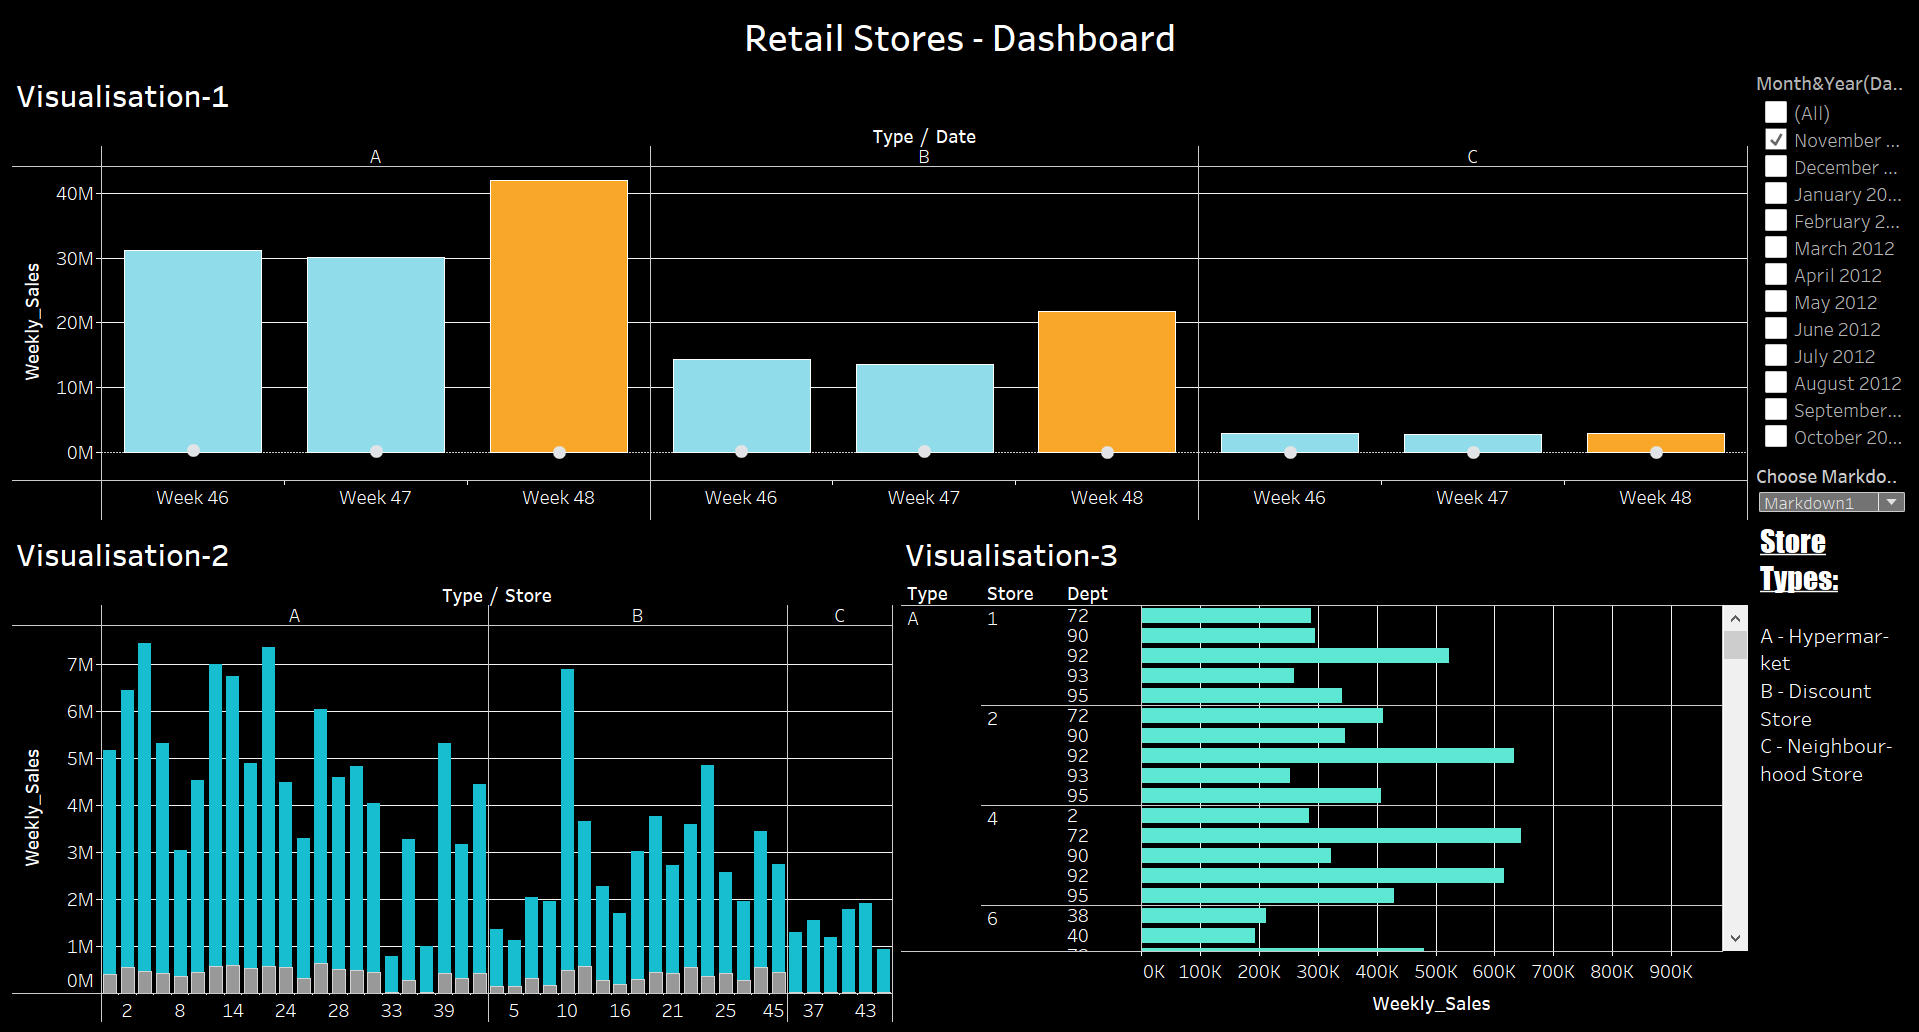

The dashboard page shown, as its layout file describes it:
{"tool":"tableau","page":{"name":"Retail Dashboard","canvas":[1000,1000],"units":"permille","ordinal":0},"visuals":[{"type":"worksheet","box":[0,0,1000,1000]},{"type":"worksheet","param":"vert","box":[5,9.8,990,980.4]},{"type":"worksheet","box":[5,9.8,990,70.9]},{"type":"worksheet","param":"vert","box":[5,80.7,990,909.5]},{"type":"worksheet","param":"vert","box":[5,80.7,990,909.5]},{"type":"worksheet","param":"horz","box":[5,80.7,990,909.5]},{"type":"worksheet","box":[5,80.7,890.3,909.5]},{"type":"worksheet","title":"Visualisation-1","mark":"Bar","rows":["Weekly_Sales","Calculation_1053560841494437891"],"cols":["Type","Date"],"box":[5,80.7,890.3,434]},{"type":"worksheet","param":"vert","box":[895.3,80.7,99.8,909.5]},{"type":"worksheet","title":"Visualisation-1","mark":"Bar","rows":["Weekly_Sales","Calculation_1053560841494437891"],"cols":["Type","Date"],"param":"[federated.1q7fgxz0rr5l5w188p2v01gt1f8x].[my:Date:ok]","box":[895.3,80.7,99.8,480.4]},{"type":"worksheet","title":"Visualisation-2","mark":"Bar","rows":["Weekly_Sales","Calculation_1053560841494437891"],"cols":["Type","Store"],"box":[5,514.7,453.8,475.6]},{"type":"worksheet","param":"horz","box":[458.8,514.7,436.4,475.6]},{"type":"worksheet","title":"Visualisation-3","mark":"Automatic","rows":["Type","Store","Dept"],"cols":["Weekly_Sales"],"box":[458.8,514.7,436.4,475.6]},{"type":"worksheet","param":"[Parameters].[Parameter 1]","box":[895.3,561.1,99.8,73.4]},{"type":"worksheet","box":[895.3,634.5,99.8,336.2]}]}

Visuals, with their boxes on the dashboard's canvas, which has no fixed pixel size, in thousandths of its width and height (x1, y1, x2, y2). These are canvas units, not pixel positions in the 1919x1032 screenshot, which may show the page scaled, cropped or inside an application window:
worksheet: [x1=0, y1=0, x2=1000, y2=1000]
worksheet: [x1=5, y1=10, x2=995, y2=990]
worksheet: [x1=5, y1=10, x2=995, y2=81]
worksheet: [x1=5, y1=81, x2=995, y2=990]
worksheet: [x1=5, y1=81, x2=995, y2=990]
worksheet: [x1=5, y1=81, x2=995, y2=990]
worksheet: [x1=5, y1=81, x2=895, y2=990]
"Visualisation-1" worksheet (Bar marks): [x1=5, y1=81, x2=895, y2=515]
worksheet: [x1=895, y1=81, x2=995, y2=990]
"Visualisation-1" worksheet (Bar marks): [x1=895, y1=81, x2=995, y2=561]
"Visualisation-2" worksheet (Bar marks): [x1=5, y1=515, x2=459, y2=990]
worksheet: [x1=459, y1=515, x2=895, y2=990]
"Visualisation-3" worksheet: [x1=459, y1=515, x2=895, y2=990]
worksheet: [x1=895, y1=561, x2=995, y2=634]
worksheet: [x1=895, y1=634, x2=995, y2=971]
